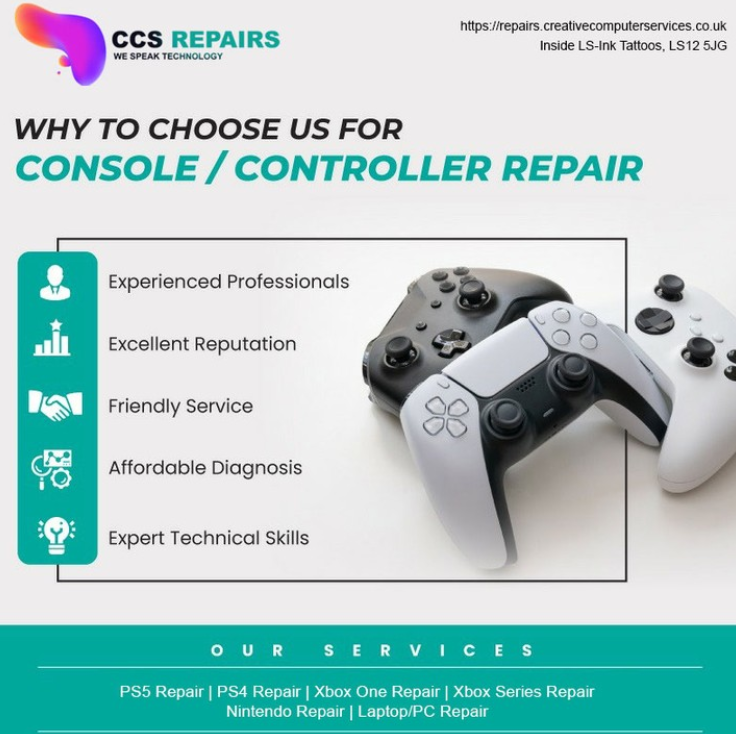gamingconsole: (396, 301, 674, 568)
